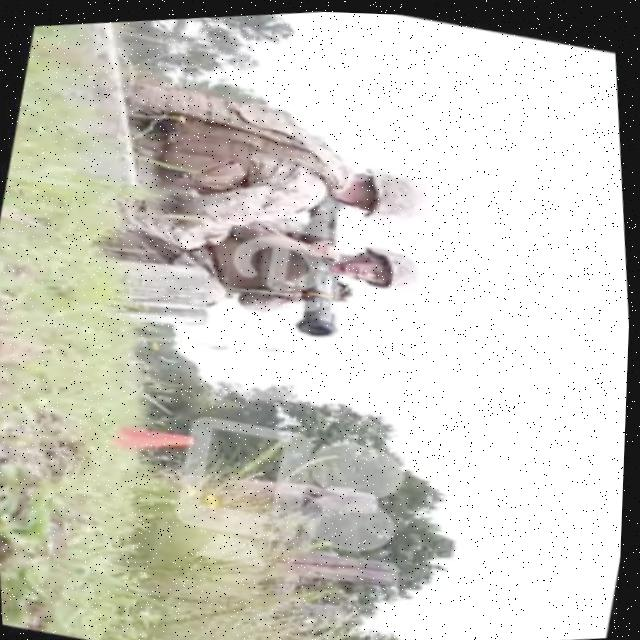rocket: (278, 201, 367, 341)
